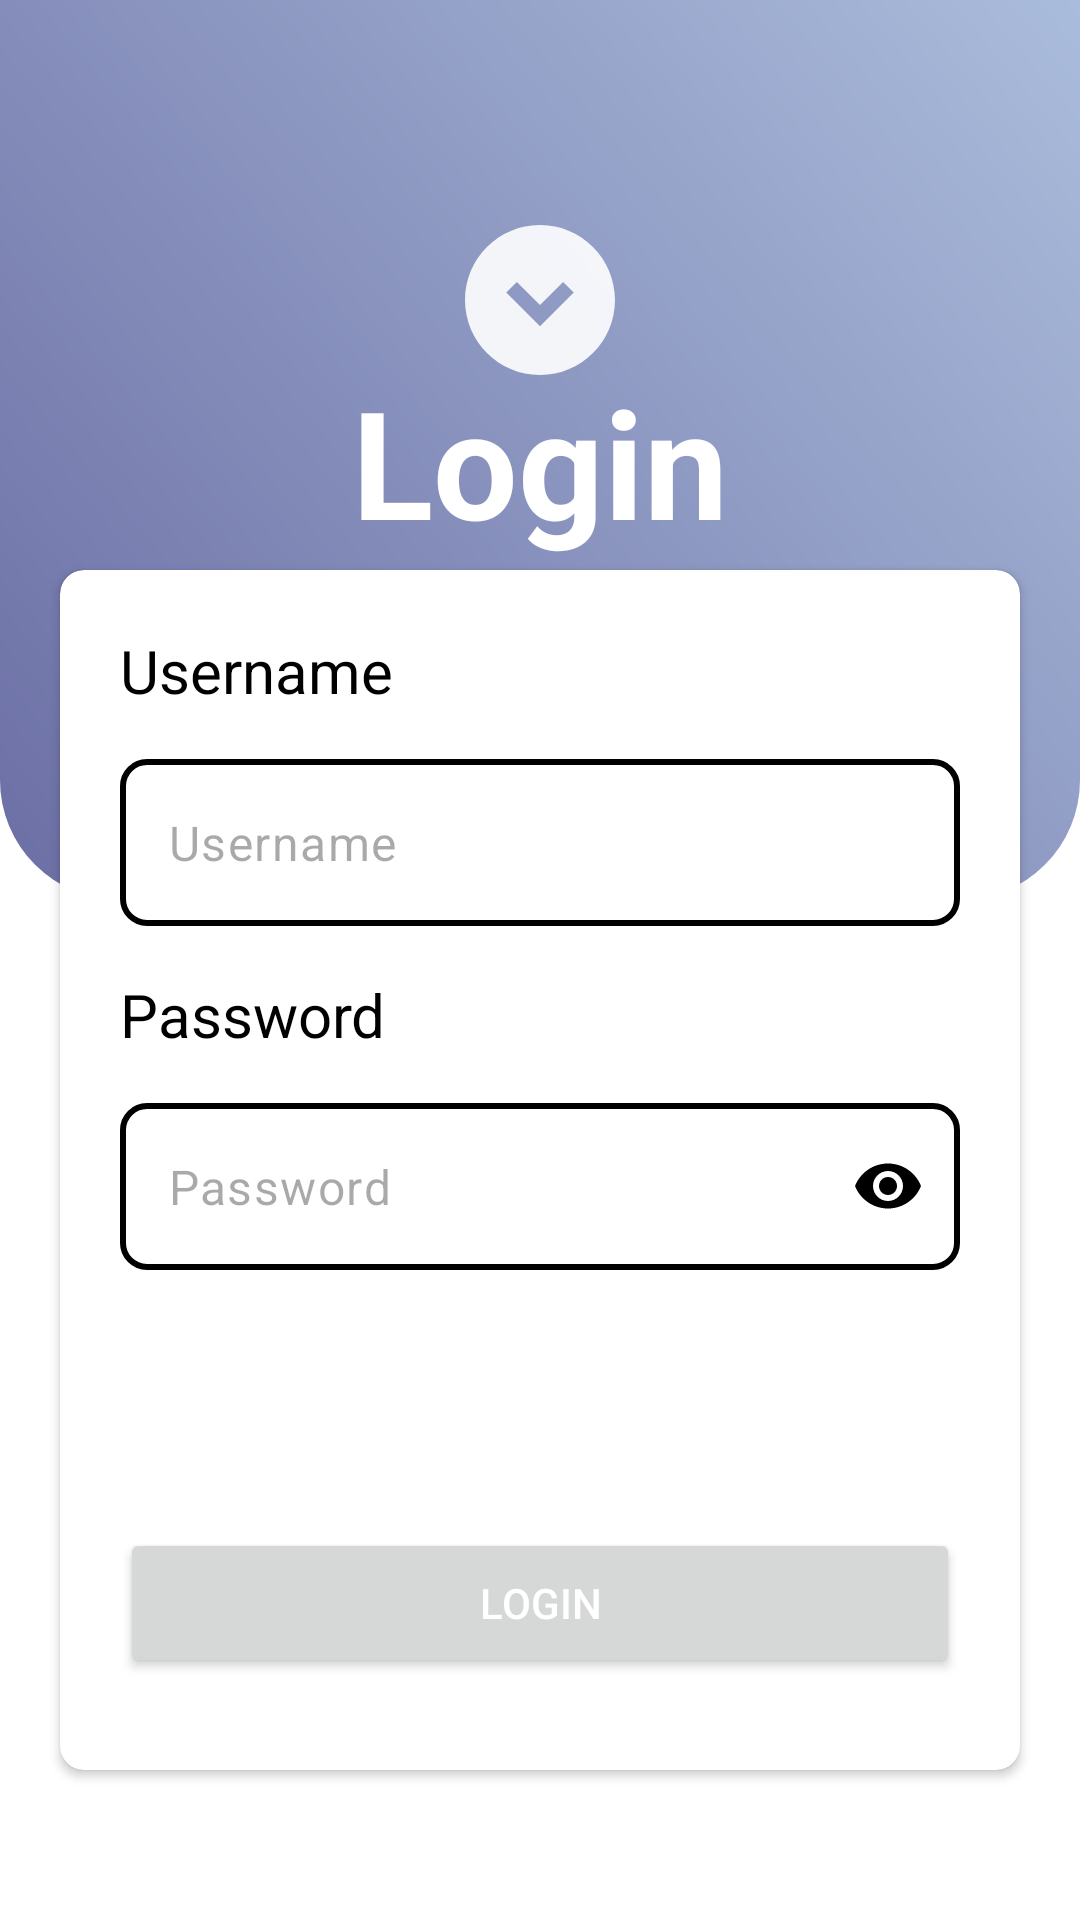

Locate icon controls on the screen. Image size 1080px×1920px, boxes as (x1, y1, x2, y2).
circledown: (465, 225, 615, 375)
